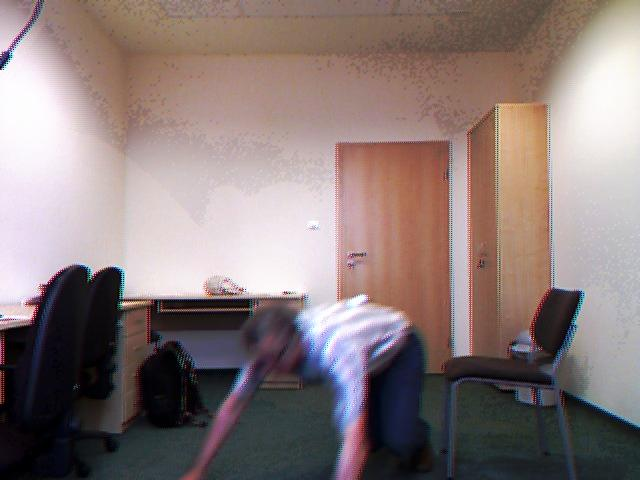fall: (167, 299, 459, 480)
